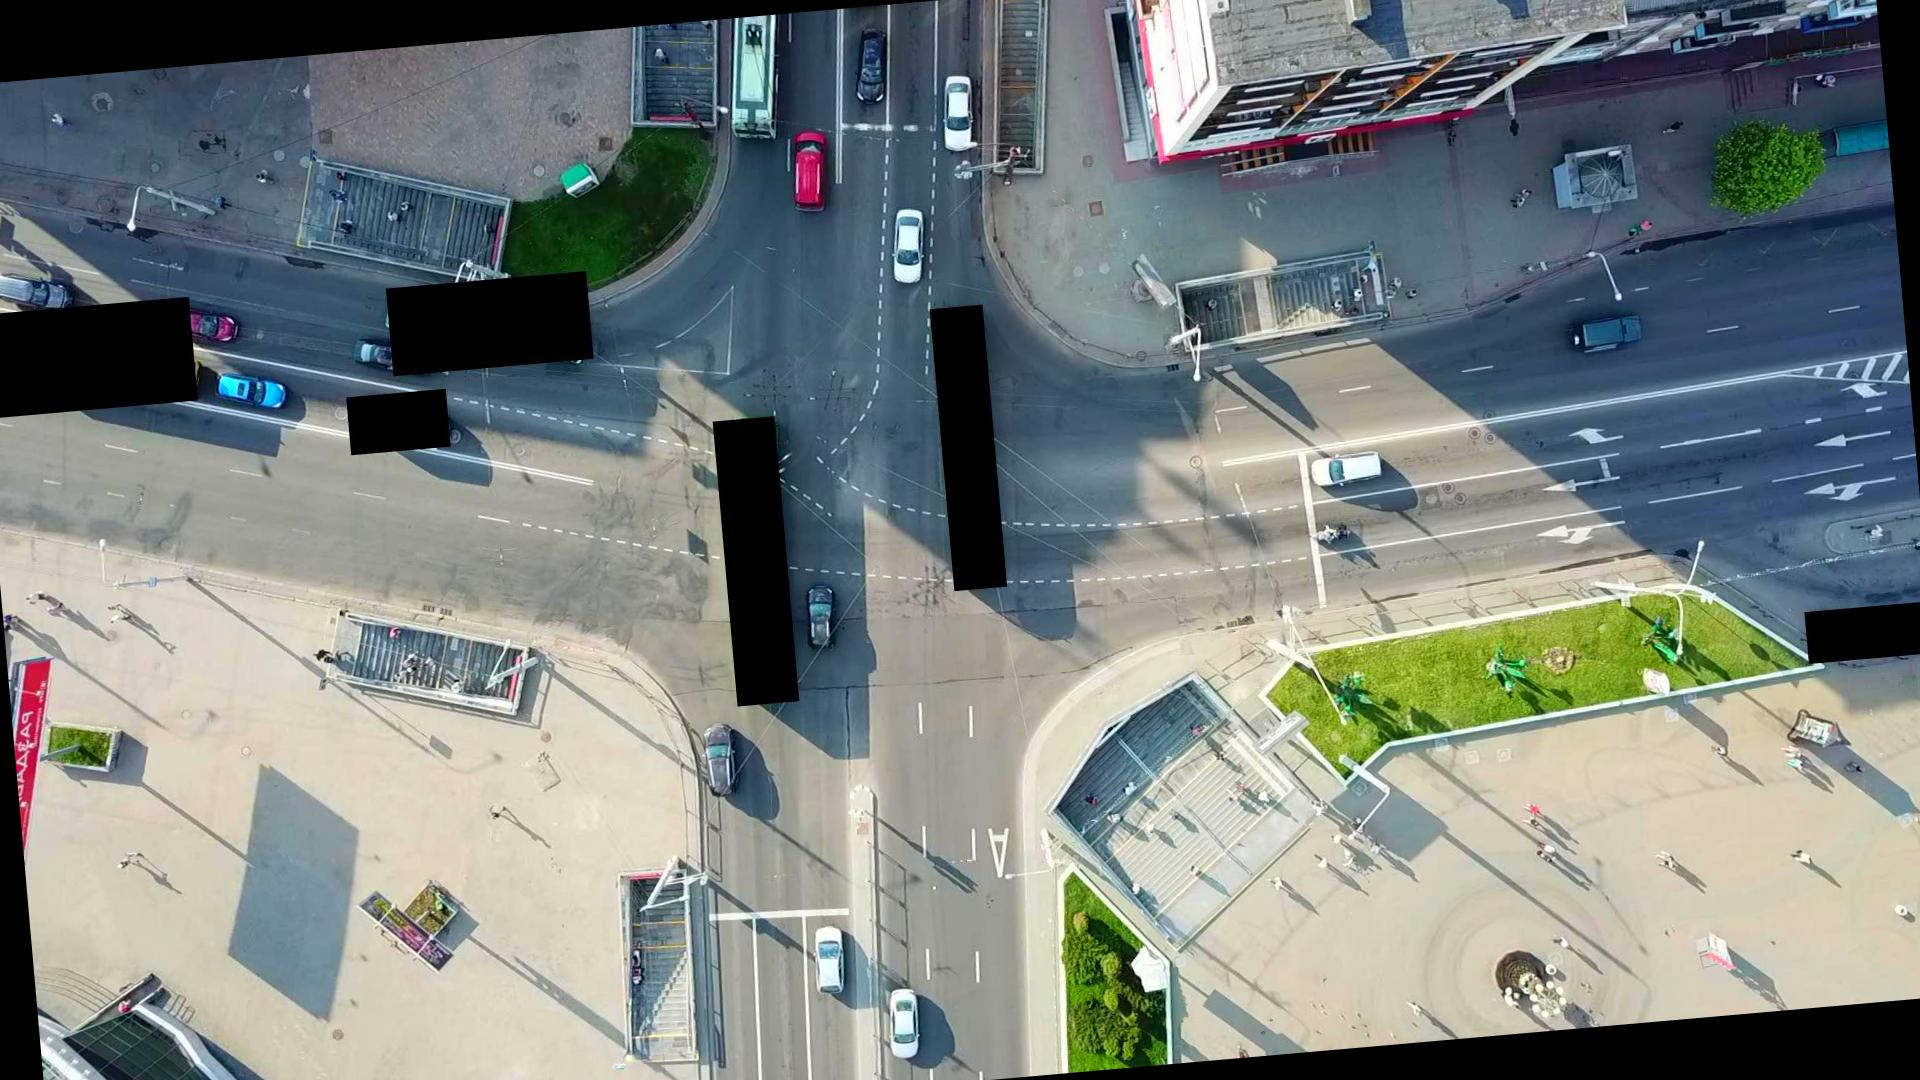vehicle: (782, 127, 832, 215), (938, 70, 980, 154), (357, 336, 436, 381), (848, 28, 893, 107), (212, 371, 289, 417), (886, 208, 931, 286), (0, 265, 67, 316), (1567, 309, 1643, 352), (167, 303, 239, 348), (1311, 448, 1383, 491), (884, 985, 922, 1063), (700, 724, 738, 799), (808, 926, 848, 997), (803, 582, 840, 654)
